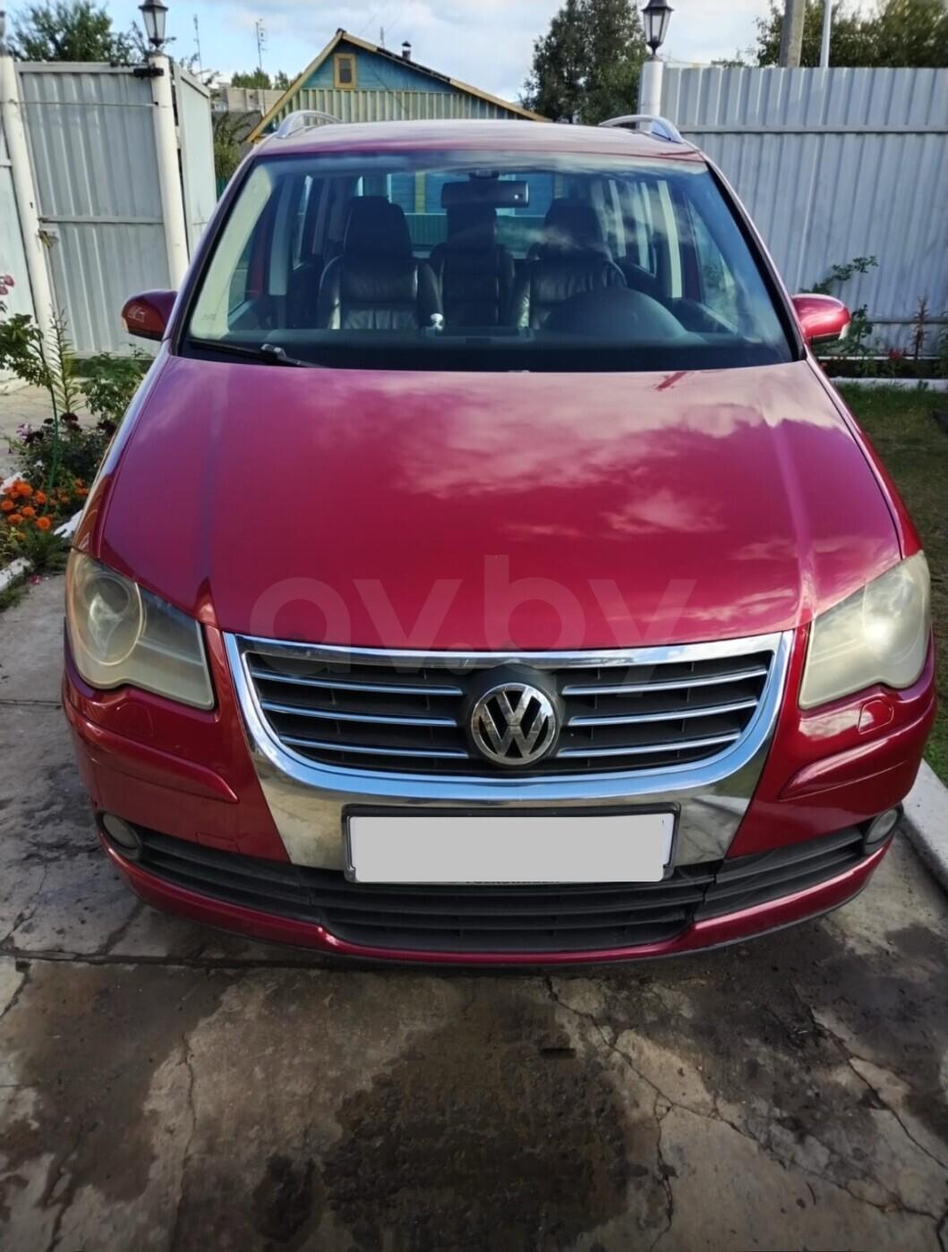Touran_2006-2010: (59, 116, 924, 972)
